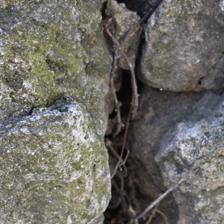Crack: (49, 1, 130, 220)
